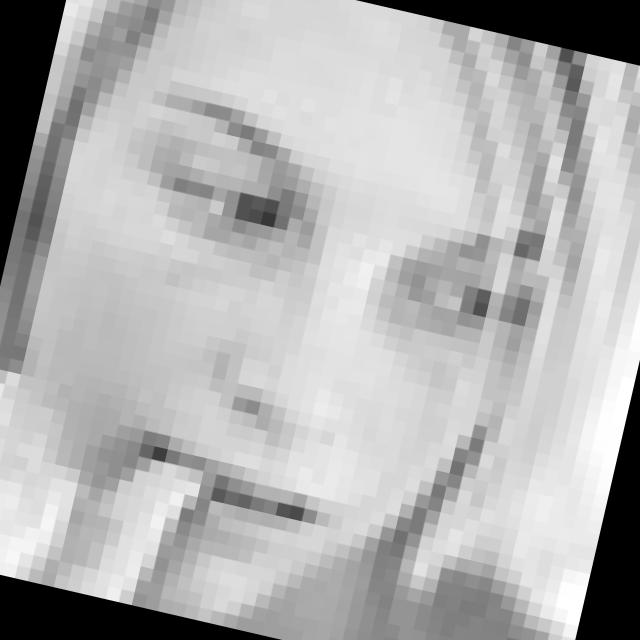fear: (62, 86, 556, 599)
